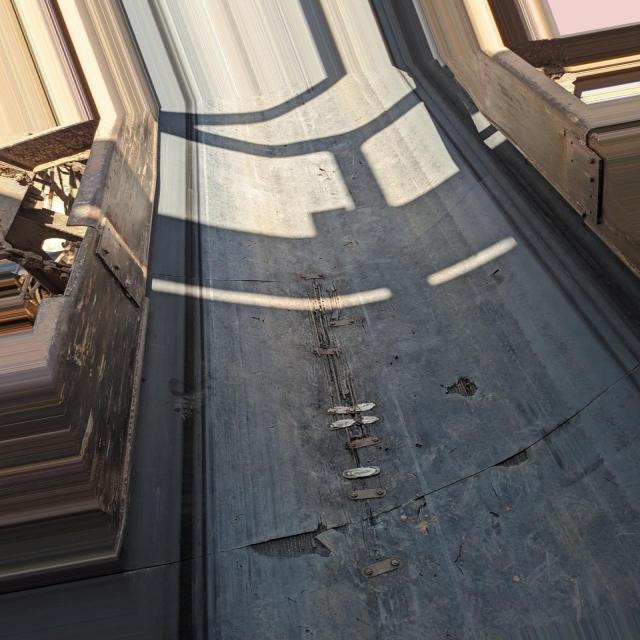Tear: (220, 372, 629, 572), (434, 372, 490, 395), (210, 273, 286, 284), (478, 268, 507, 289)
patch work: (289, 253, 401, 509), (350, 530, 405, 585)
